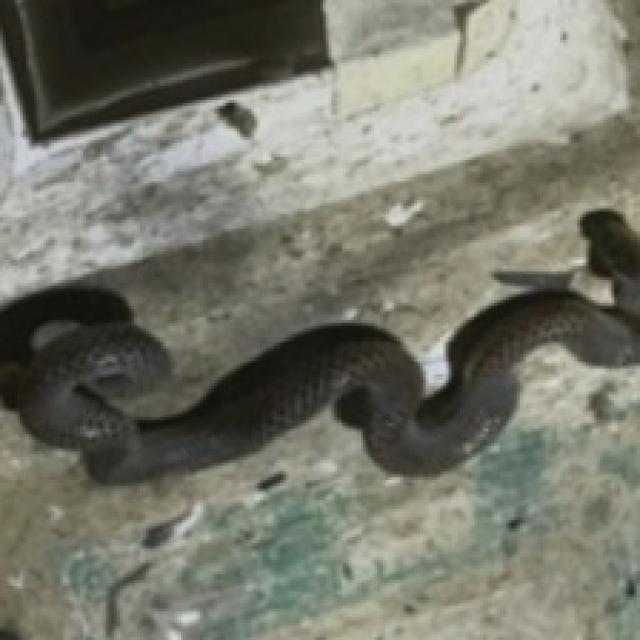gervais worm snake: (0, 211, 637, 480)
